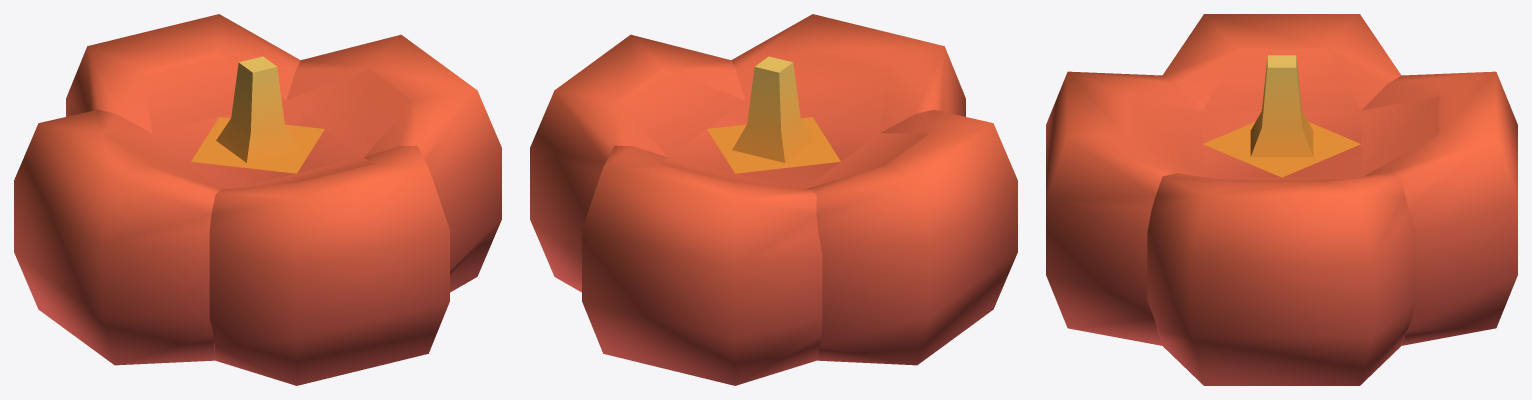
Rendered from pumpkin.glb.
The picture shows the model from 3 angles, left to right: view 1: azimuth 30°, elevation 25°; view 2: azimuth 150°, elevation 25°; view 3: azimuth 270°, elevation 25°; orthographic projection. The views are drawn at different scales.
Parts seen in each view (by area): view 1: pumpkin; view 2: pumpkin; view 3: pumpkin.
Boxes of the visible parts, <box> form: pumpkin: <box>14,14,501,385</box>; pumpkin: <box>530,14,1017,385</box>; pumpkin: <box>1046,14,1517,385</box>.
Bounding box in the file's own units: 0.4189 × 0.2291 × 0.4189.
Materials: 1 (1 with a texture image).
